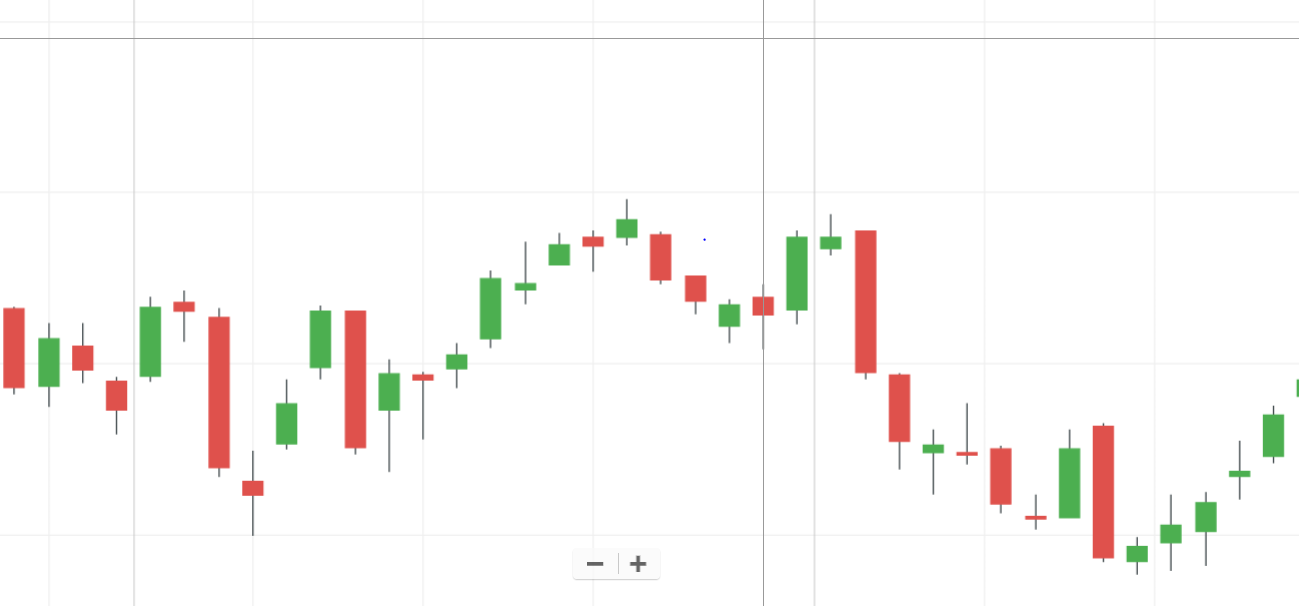doji: (946, 397, 986, 471), (510, 235, 542, 311), (410, 358, 437, 448), (918, 425, 949, 500), (171, 285, 199, 347)
